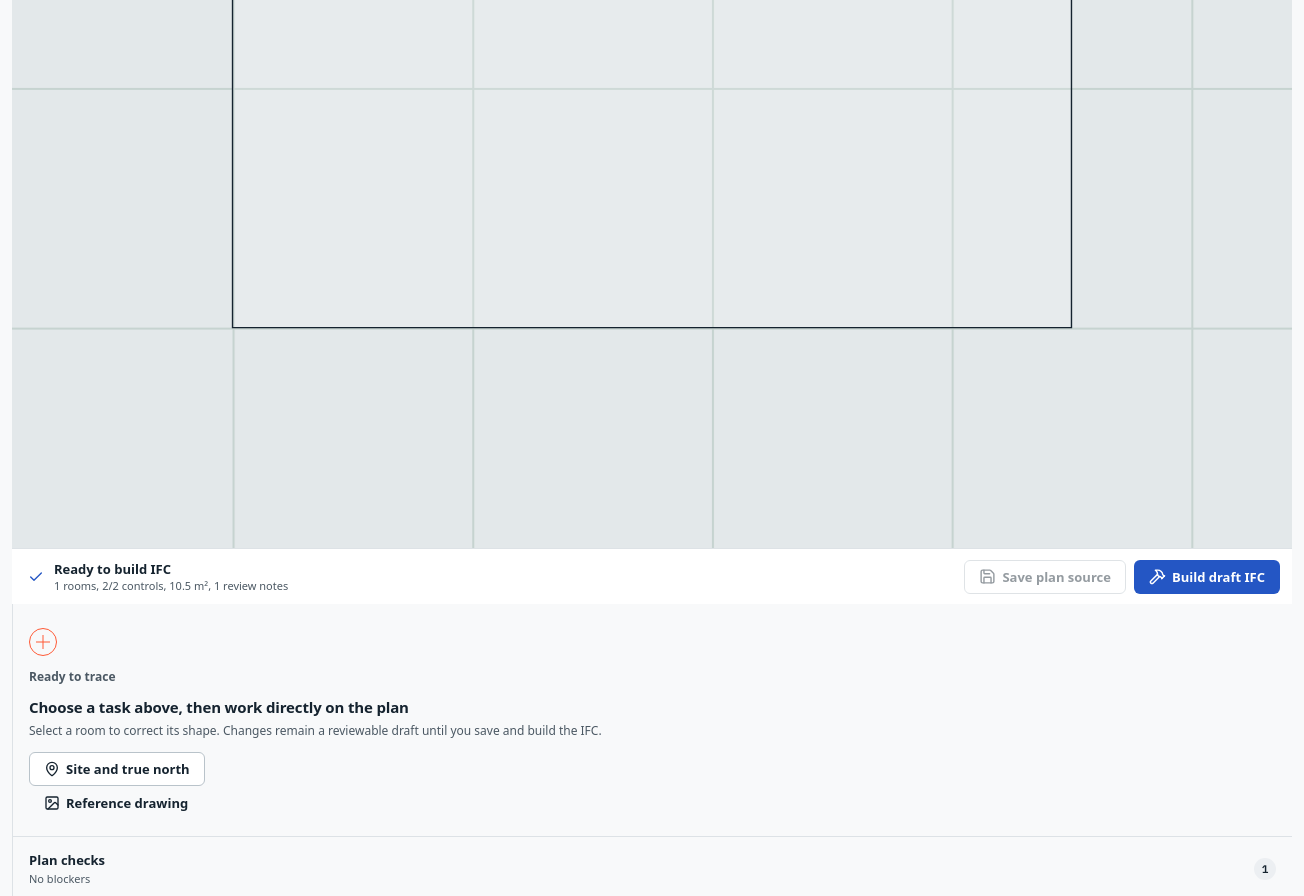
Test case: TraceWorkspace › refuses to build while the source has unsaved edits
(page scrolled)
What coordinates should you click on to do the following:
click the button "Site and true north"
I would click on:
 (117, 769)
Its box is [29,752,205,786].
(page scrolled)
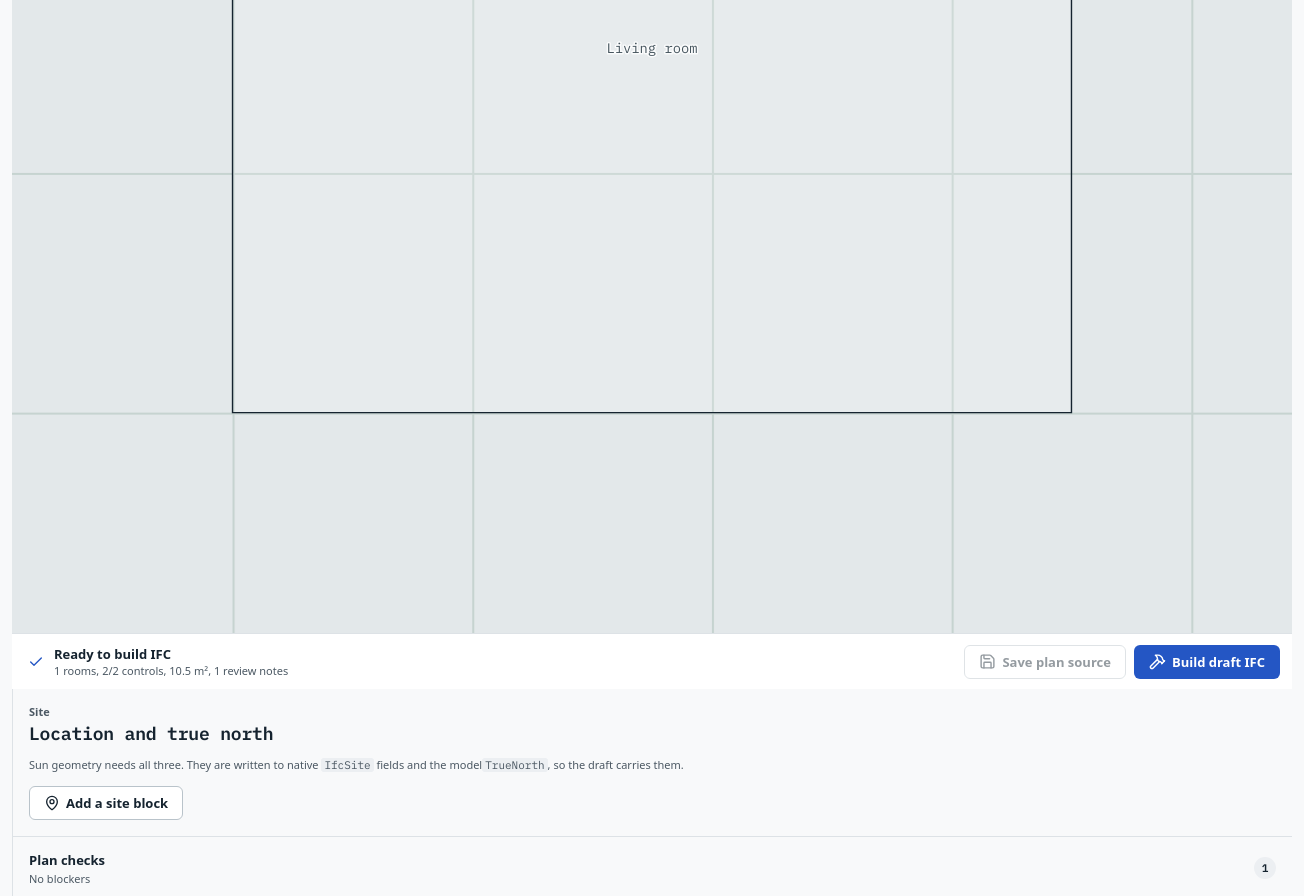
What coordinates should you click on to do the following:
click the button "Add a site block"
I would click on:
 (106, 802)
Its box is [29,786,183,820].
(page scrolled)
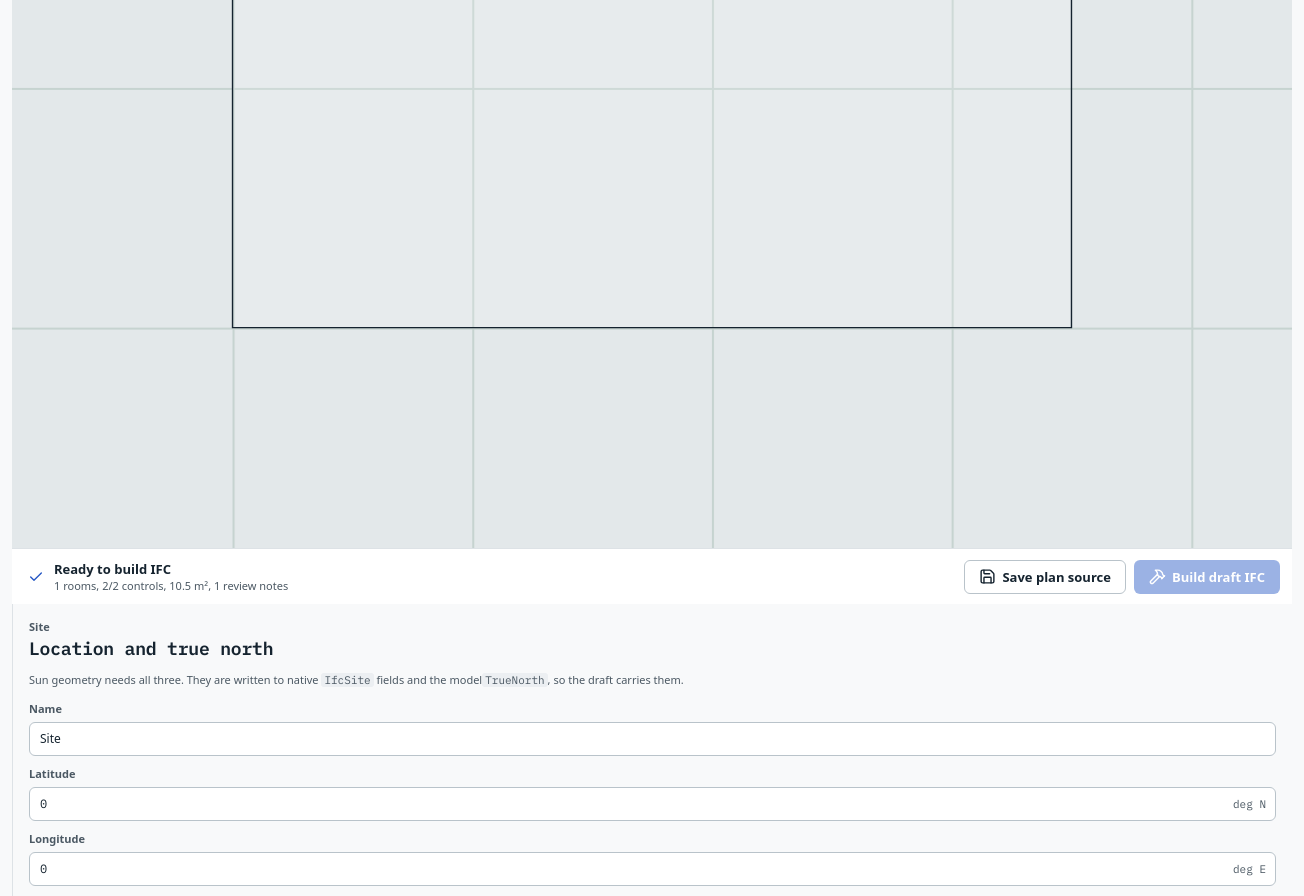
Check: the button "Build draft IFC" is disabled, box [1134,560,1280,594]
